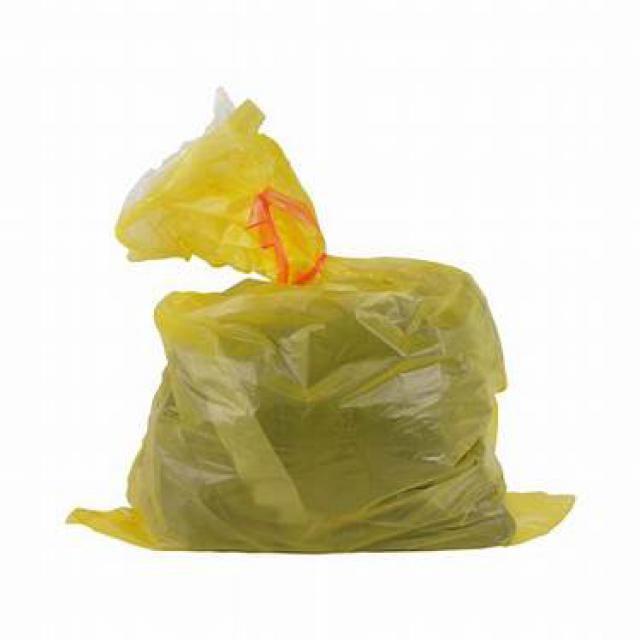waste: (70, 91, 574, 563)
